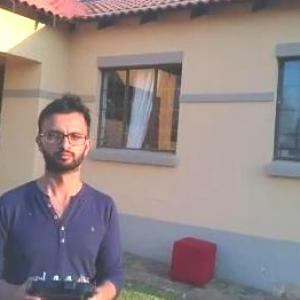follow: (0, 80, 131, 299)
null: (258, 264, 298, 299)
